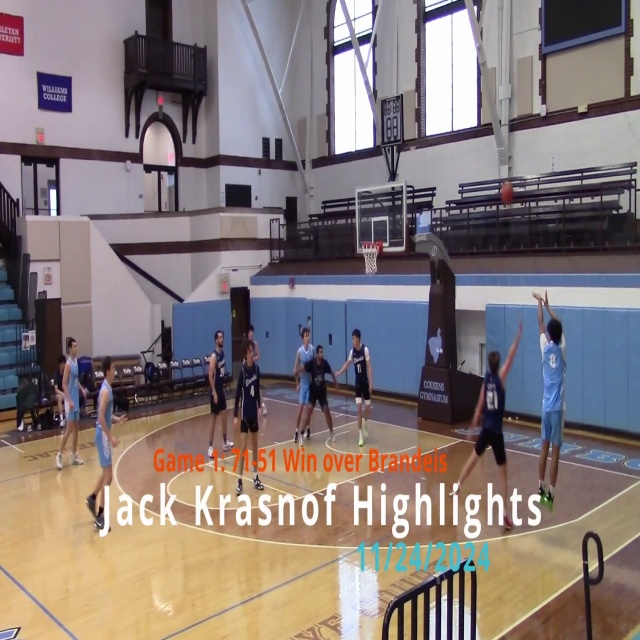Basketball: (500, 182, 514, 204)
